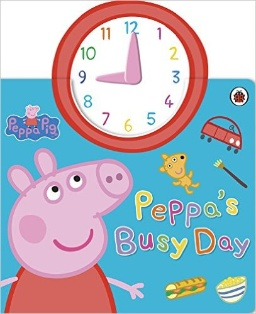Peppa: (1, 148, 132, 314)
